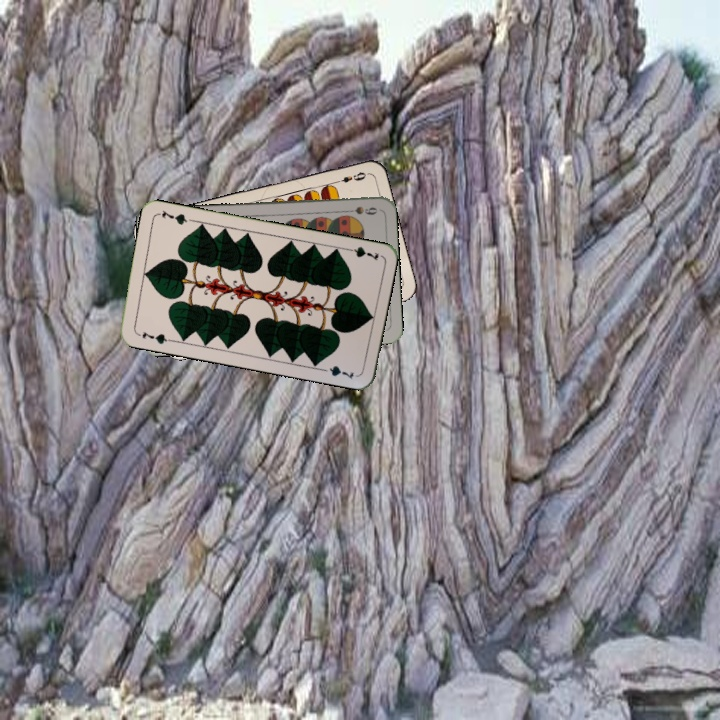E9: (330, 168, 370, 186)
G7: (341, 242, 381, 263), (138, 327, 174, 347)
S9: (339, 202, 380, 218)
